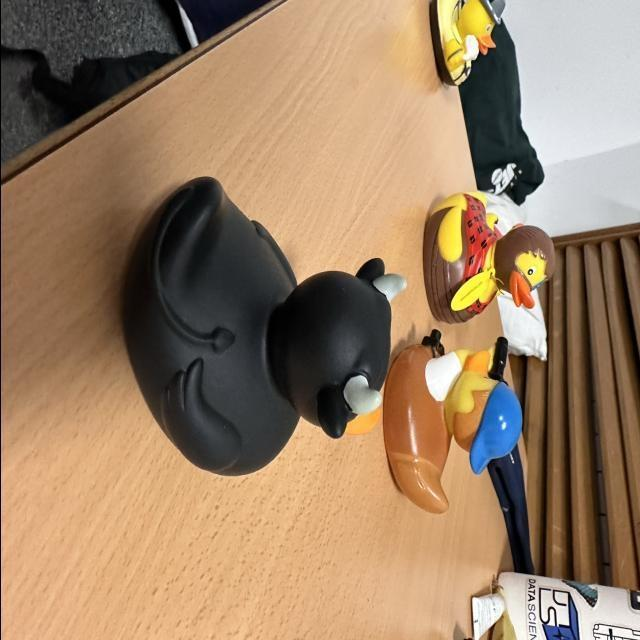rubber-duck: (123, 176, 404, 473), (382, 329, 519, 511), (422, 190, 553, 321), (429, 0, 503, 83)
